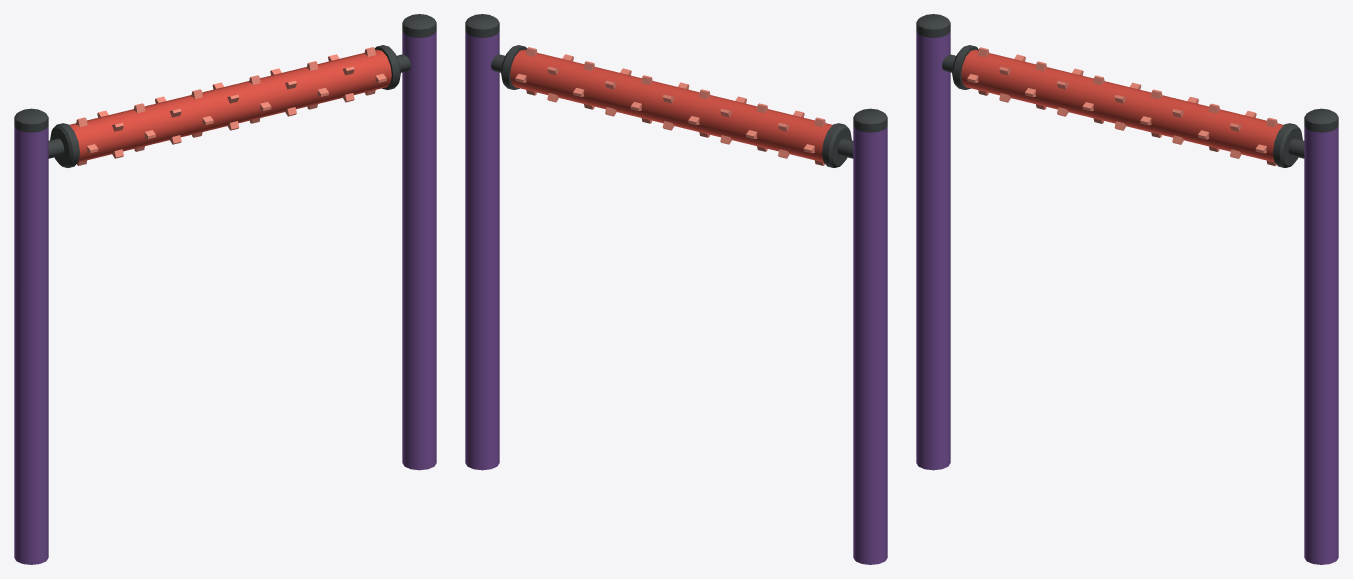
File: SM_Roller_Obstacles.fbx
3 views of the same model, side by side, from view 1: azimuth 30°, elevation 25°; view 2: azimuth 150°, elevation 25°; view 3: azimuth 330°, elevation 25° (orthographic).
Visible parts, largest first — view 1: Body, Roller; view 2: Body, Roller; view 3: Body, Roller.
Part boxes in pixels (bbox=[...]): Body: bbox=[14, 14, 436, 564]; Roller: bbox=[48, 45, 410, 167]; Body: bbox=[465, 14, 887, 564]; Roller: bbox=[491, 45, 853, 167]; Body: bbox=[916, 14, 1338, 564]; Roller: bbox=[942, 45, 1304, 167].
Bounding box in the file's own units: 797 × 808 × 83.02.
